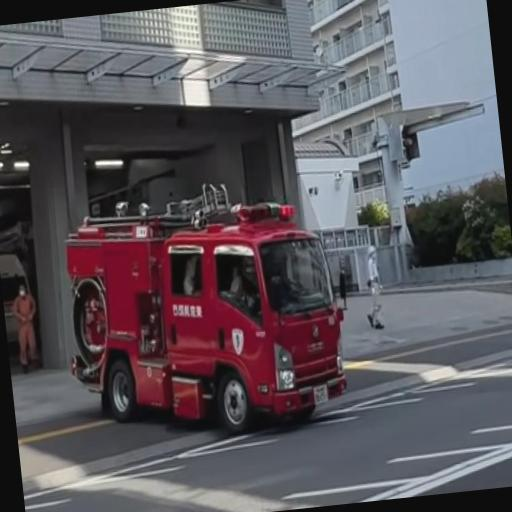fire truck: (67, 184, 347, 432)
